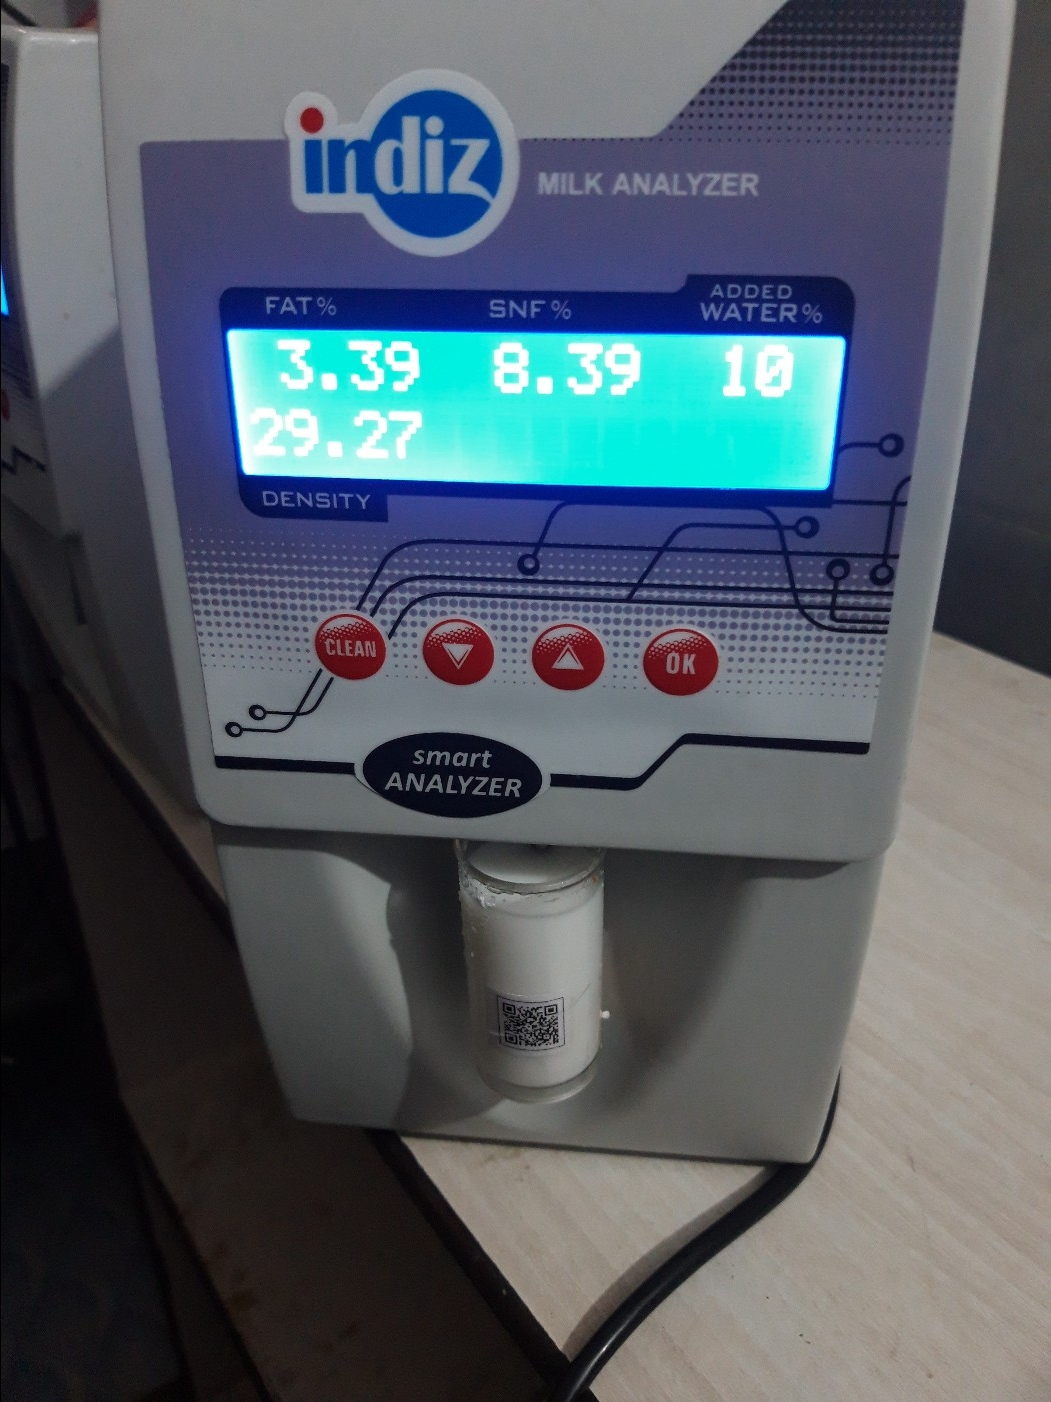lcd: (222, 322, 852, 502)
qr: (490, 992, 577, 1062)
